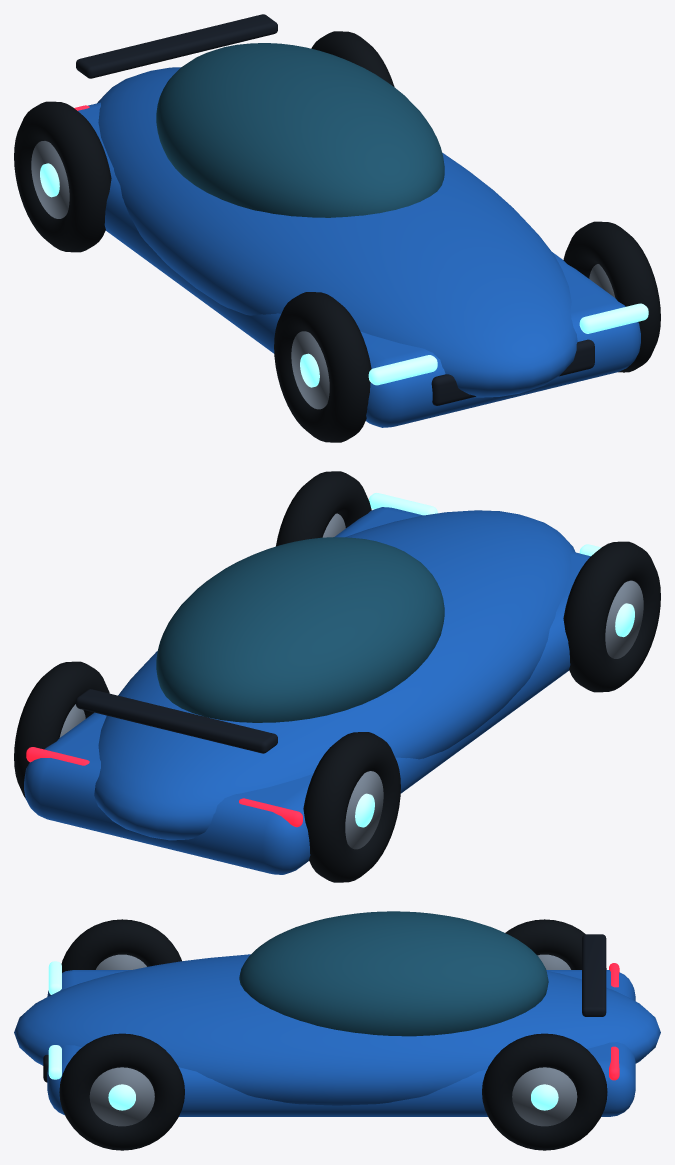
File: rainline_coastline_gt.glb
3 renders of one model, top to bottom at view 1: azimuth 30°, elevation 25°; view 2: azimuth 150°, elevation 25°; view 3: azimuth 270°, elevation 25°, orthographic. The views are drawn at different scales.
Parts seen in each view (by area): view 1: Coast smooth body, Coast glass canopy, Coast lower body, Coast wheel Tire, Coast wheel Tire.001, Coast wheel Tire.002, Coast spoiler, Coast wheel Tire.003, Coast wheel Rim, Coast wheel Rim.001, Coast grille, Coast headlight (+1 smaller); view 2: Coast smooth body, Coast glass canopy, Coast lower body, Coast wheel Tire, Coast wheel Tire.001, Coast wheel Tire.003, Coast spoiler, Coast wheel Tire.002, Coast wheel Rim, Coast wheel Rim.001, Coast headlight.001, Coast taillight; view 3: Coast smooth body, Coast glass canopy, Coast lower body, Coast wheel Tire.002, Coast wheel Tire.003, Coast wheel Tire, Coast wheel Rim.002, Coast wheel Rim.003, Coast wheel Tire.001, Coast spoiler, Coast wheel Brake.003, Coast wheel Brake.002 (+3 smaller).
Boxes of the visible parts, x1=… form: Coast smooth body: x1=97, y1=67, x2=577, y2=397; Coast glass canopy: x1=156, y1=43, x2=444, y2=217; Coast lower body: x1=78, y1=102, x2=640, y2=427; Coast wheel Tire: x1=274, y1=292, x2=371, y2=442; Coast wheel Tire.001: x1=14, y1=101, x2=111, y2=252; Coast wheel Tire.002: x1=563, y1=221, x2=660, y2=372; Coast spoiler: x1=76, y1=14, x2=277, y2=78; Coast wheel Tire.003: x1=311, y1=31, x2=394, y2=86; Coast wheel Rim: x1=291, y1=331, x2=329, y2=409; Coast wheel Rim.001: x1=31, y1=141, x2=69, y2=218; Coast grille: x1=431, y1=339, x2=594, y2=405; Coast headlight: x1=368, y1=355, x2=437, y2=385; Coast smooth body: x1=94, y1=510, x2=575, y2=840; Coast glass canopy: x1=156, y1=537, x2=444, y2=722; Coast lower body: x1=24, y1=507, x2=590, y2=874; Coast wheel Tire: x1=563, y1=541, x2=660, y2=692; Coast wheel Tire.001: x1=303, y1=732, x2=400, y2=882; Coast wheel Tire.003: x1=14, y1=661, x2=109, y2=798; Coast spoiler: x1=76, y1=689, x2=277, y2=753; Coast wheel Tire.002: x1=276, y1=471, x2=371, y2=546; Coast wheel Rim: x1=605, y1=580, x2=643, y2=658; Coast wheel Rim.001: x1=345, y1=771, x2=383, y2=849; Coast headlight.001: x1=369, y1=493, x2=437, y2=515; Coast taillight: x1=239, y1=798, x2=302, y2=827; Coast smooth body: x1=14, y1=954, x2=660, y2=1105; Coast glass canopy: x1=239, y1=911, x2=548, y2=1036; Coast lower body: x1=47, y1=970, x2=635, y2=1116; Coast wheel Tire.002: x1=59, y1=1033, x2=184, y2=1150; Coast wheel Tire.003: x1=482, y1=1033, x2=607, y2=1150; Coast wheel Tire: x1=61, y1=919, x2=181, y2=972; Coast wheel Rim.002: x1=89, y1=1067, x2=154, y2=1126; Coast wheel Rim.003: x1=512, y1=1067, x2=577, y2=1126; Coast wheel Tire.001: x1=505, y1=919, x2=606, y2=969; Coast spoiler: x1=582, y1=934, x2=606, y2=1016; Coast wheel Brake.003: x1=531, y1=1084, x2=558, y2=1110; Coast wheel Brake.002: x1=108, y1=1084, x2=135, y2=1110.
Bounding box in the file's own units: 2.28 × 1.37 × 4.84.
